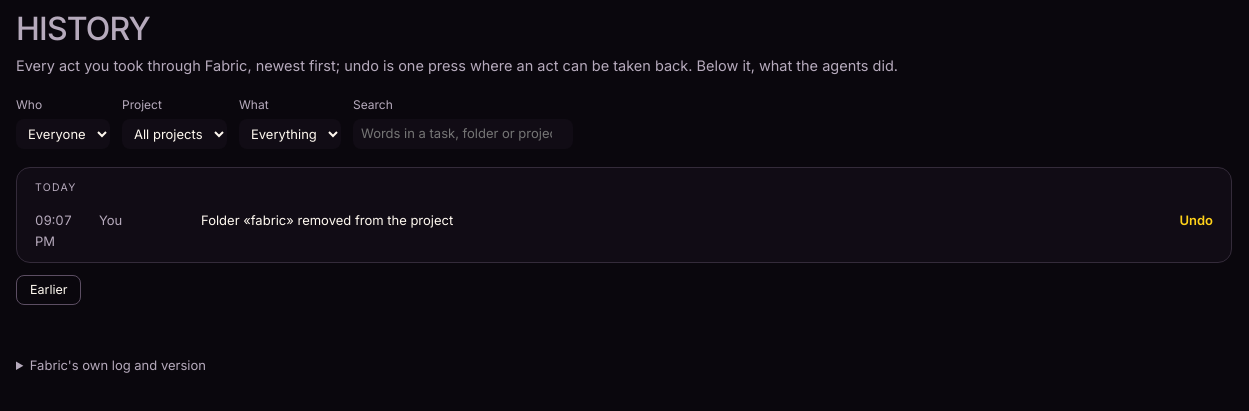
Test: История › reads earlier acts with «Ещё раньше»
What coordinates should you click on to do the following:
click the button "Earlier"
I would click on:
 (49, 290)
Its box is x1=16 y1=275 x2=82 y2=305.
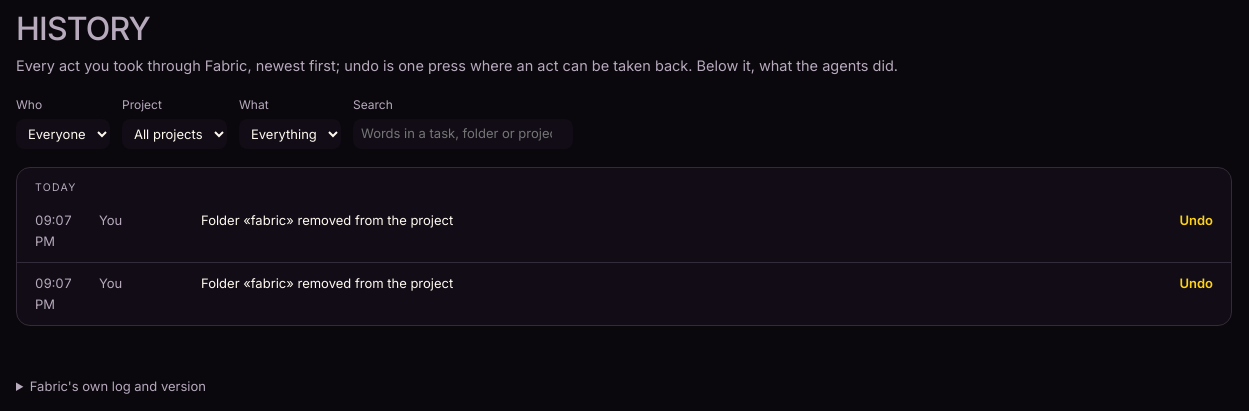
Expected: the number of list items is 2, x1=17 y1=168 x2=1231 y2=263; x1=17 y1=263 x2=1231 y2=325
Expected: the button "Earlier" is gone
